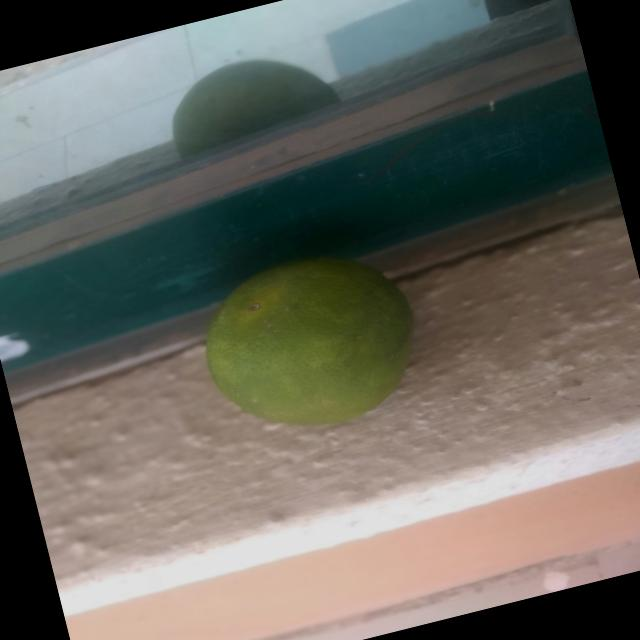Unripe: (161, 224, 451, 471)
